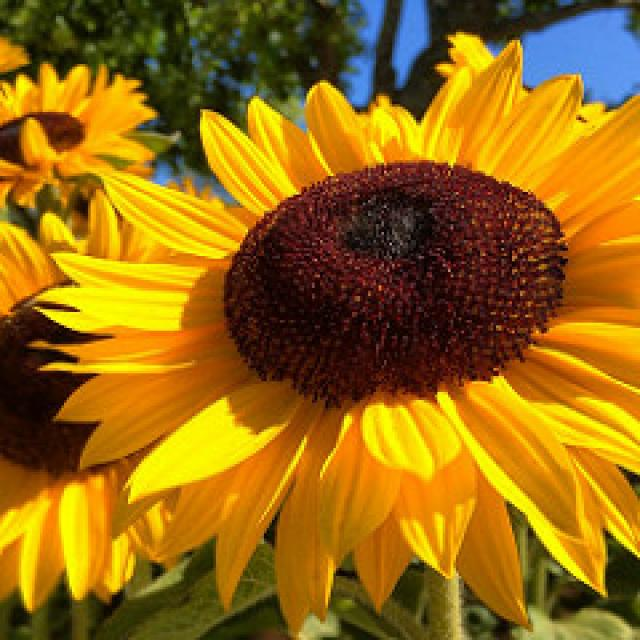sunflower: (72, 27, 640, 616), (0, 209, 259, 614), (0, 60, 163, 197)
